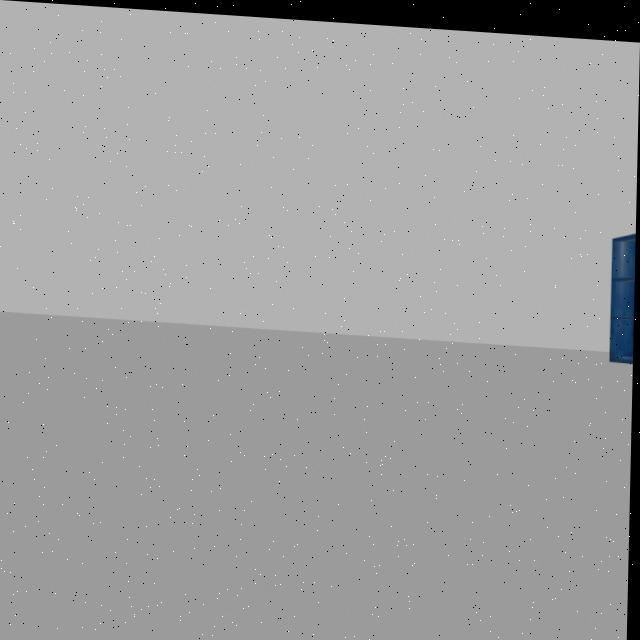shelf: (602, 212, 637, 366)
